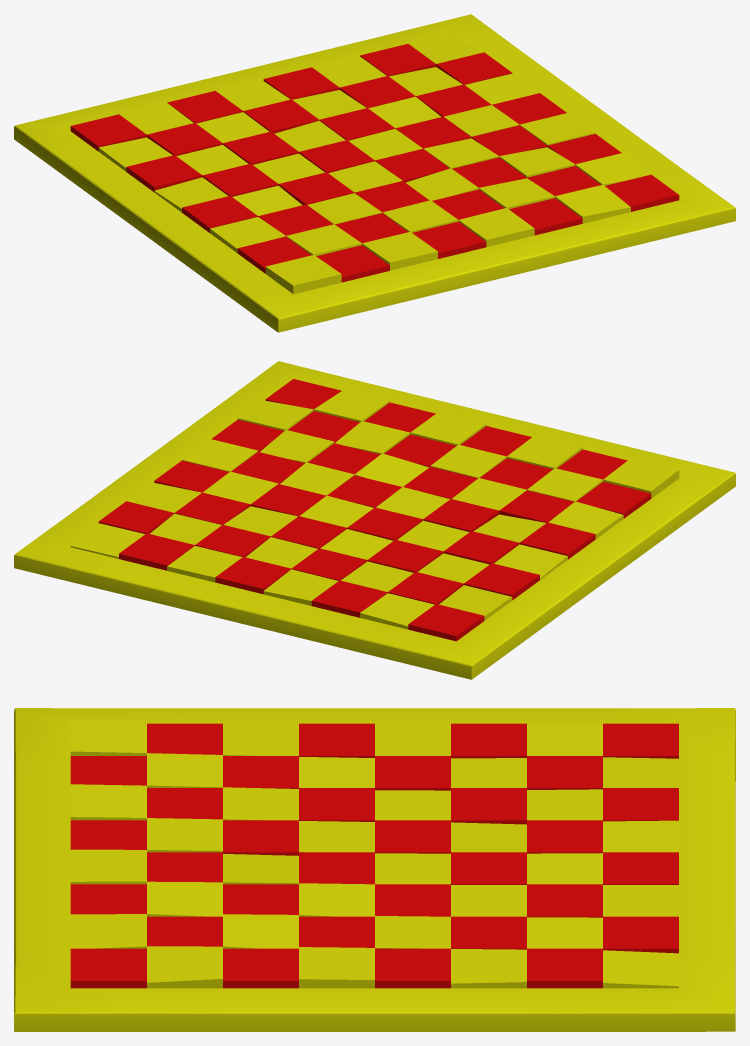
The model's file is chess_plate.FBX.
The picture shows the model from 3 angles, top to bottom: view 1: azimuth 30°, elevation 25°; view 2: azimuth 150°, elevation 25°; view 3: azimuth 270°, elevation 25°; orthographic projection. The views are drawn at different scales.
Parts seen in each view (by area): view 1: chess_plate_white; view 2: chess_plate_white; view 3: chess_plate_white.
Boxes of the visible parts, <box> form: chess_plate_white: <box>14,14,735,332</box>; chess_plate_white: <box>14,361,735,679</box>; chess_plate_white: <box>14,708,735,1031</box>.
Size of the model in its own units: 66.46 by 3.2 by 66.46.
